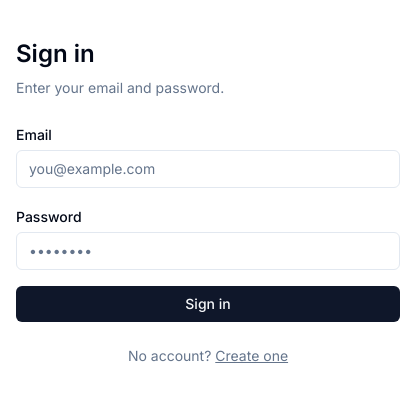
Test: LoginPage › shows error message on failed sign-in
Step 1. Type "test@example.com" into the field labelled "Email" → x=208, y=169, box [16, 150, 400, 188]
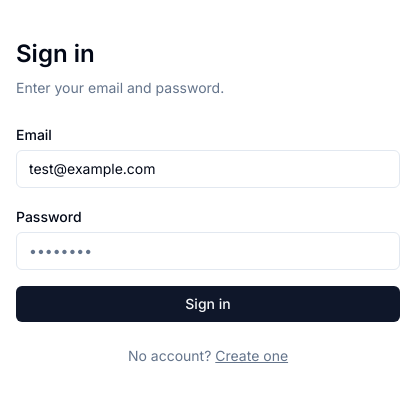
Step 2. Type "wrongpassword" into the password field labelled "Password" → x=208, y=251, box [16, 232, 400, 270]
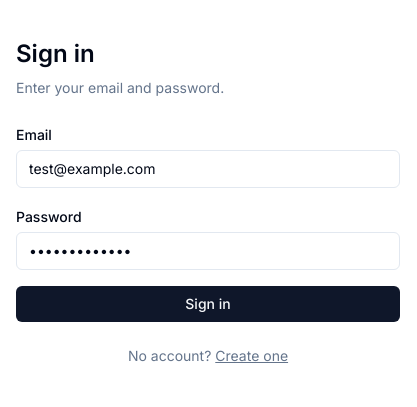
Step 3. Click the button "Sign in" → x=208, y=304, box [16, 286, 400, 322]
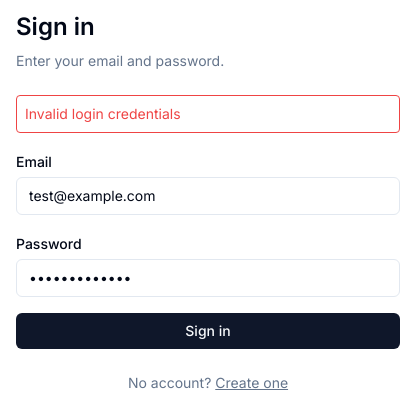
expect the message reads "Invalid login credentials": met, box [25, 105, 181, 122]
